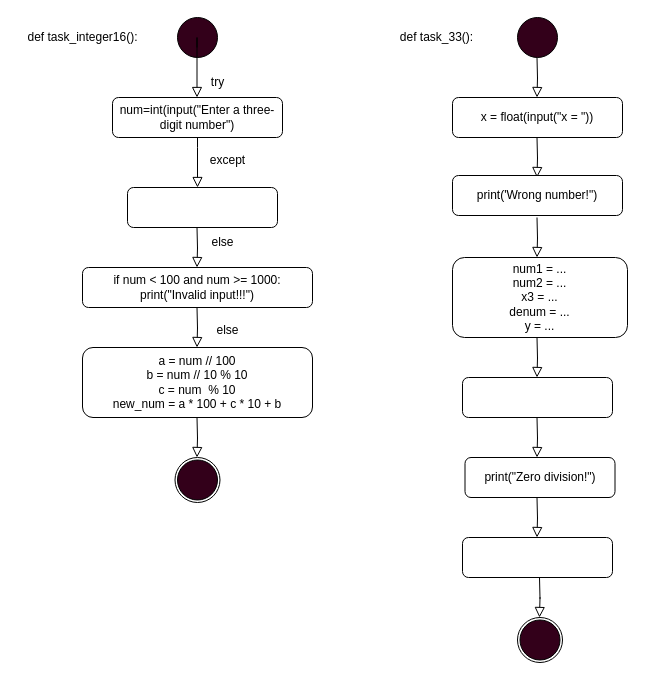
This 645x680 diagram has some shape labels left out. Here are the shapes that lost their labels. From the top down, the centre of each, then its label:
pixel 202 207: print("Num MUST be an integer!!!")
pixel 537 397: print("Error calculations!")
pixel 537 557: print("y = ", y)
